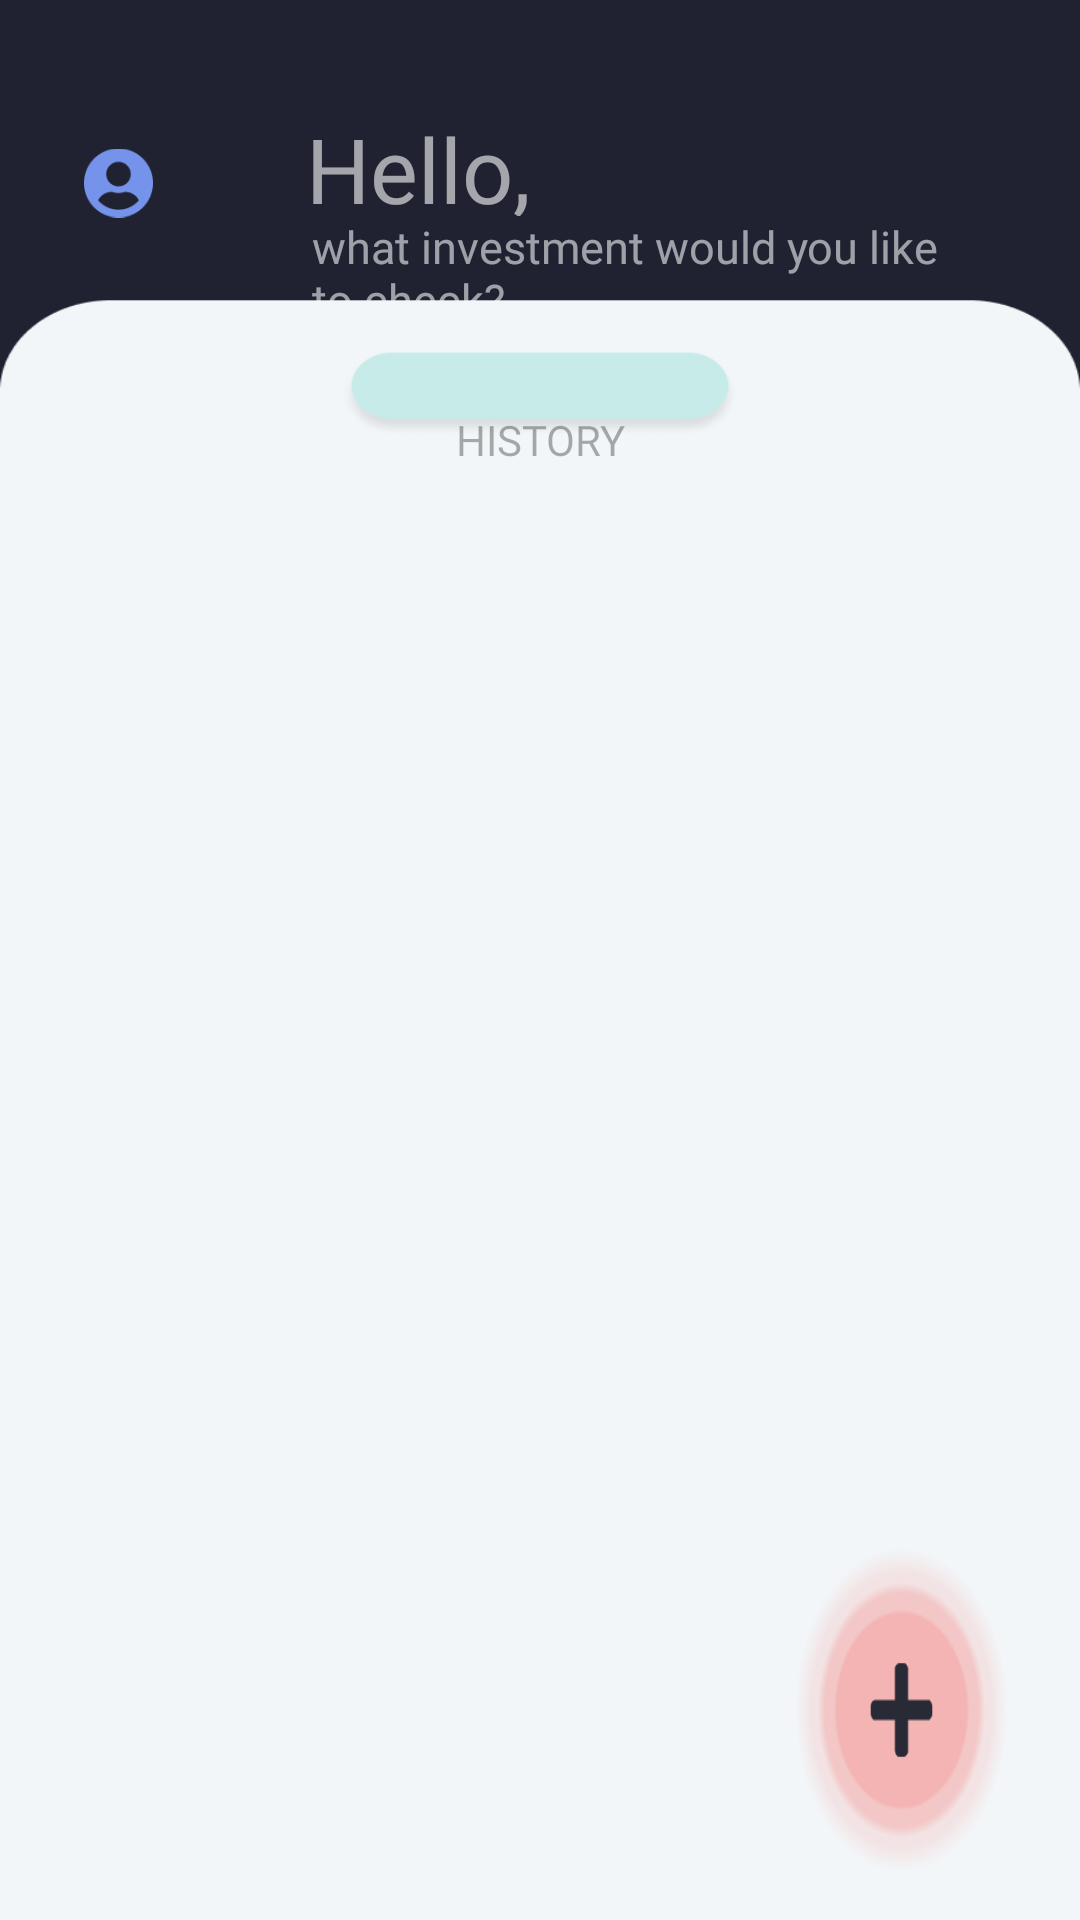

Icons on this 1080x1920 Android screen, each with the point to tap as [x,y]:
addbtn: [901,1710]
